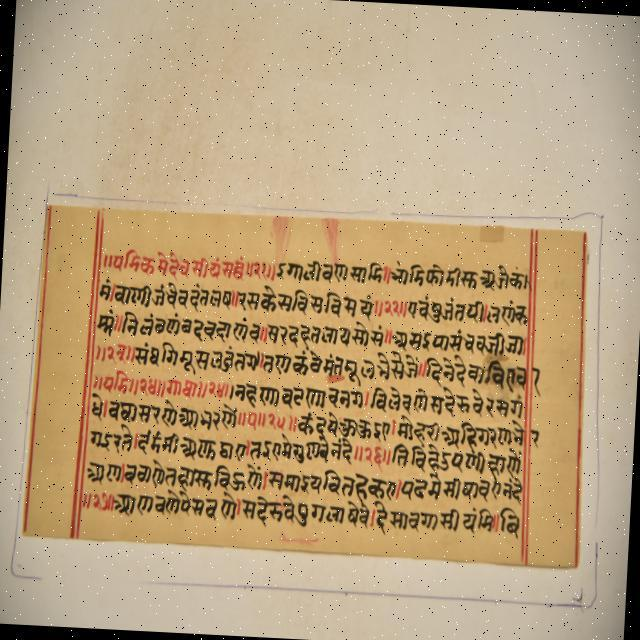text_paragraph: (23, 202, 584, 570)
